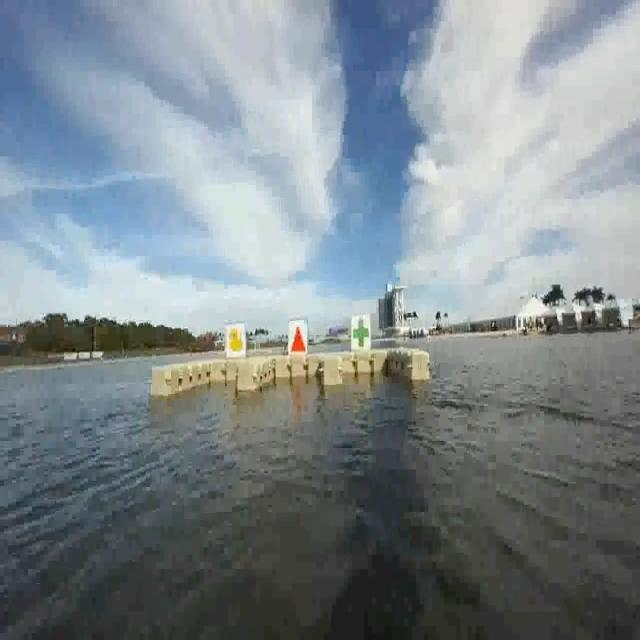blue-cross: (352, 316, 372, 356)
red-dot: (288, 320, 309, 357)
yellow-duck: (223, 322, 246, 359)
